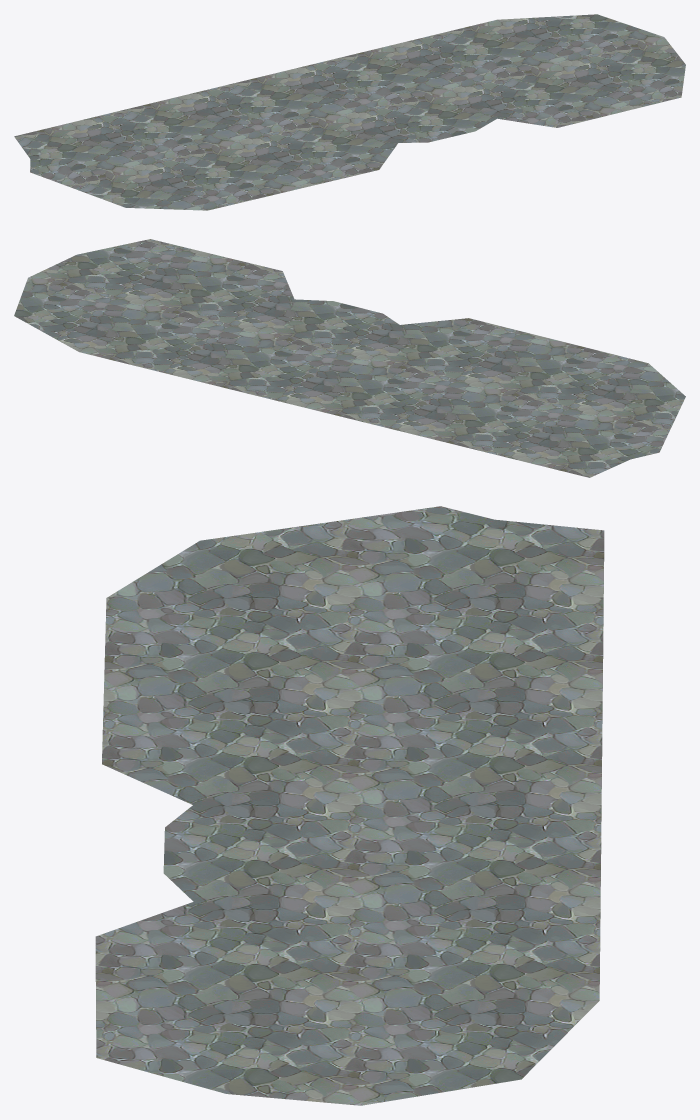
The model's file is Map_06_ground02.FBX.
The picture shows the model from 3 angles, top to bottom: view 1: azimuth 30°, elevation 25°; view 2: azimuth 150°, elevation 25°; view 3: azimuth 270°, elevation 25°; orthographic projection. The views are drawn at different scales.
Visible parts, largest first — view 1: Map_06_ground02; view 2: Map_06_ground02; view 3: Map_06_ground02.
Part boxes in pixels (box(x1,y1,x2,y2)): Map_06_ground02: box(14, 14, 685, 210); Map_06_ground02: box(14, 239, 685, 477); Map_06_ground02: box(95, 506, 604, 1105).
Size of the model in its own units: 4636 by 0.0797 by 1663.
Materials: 1 (1 with a texture image).
